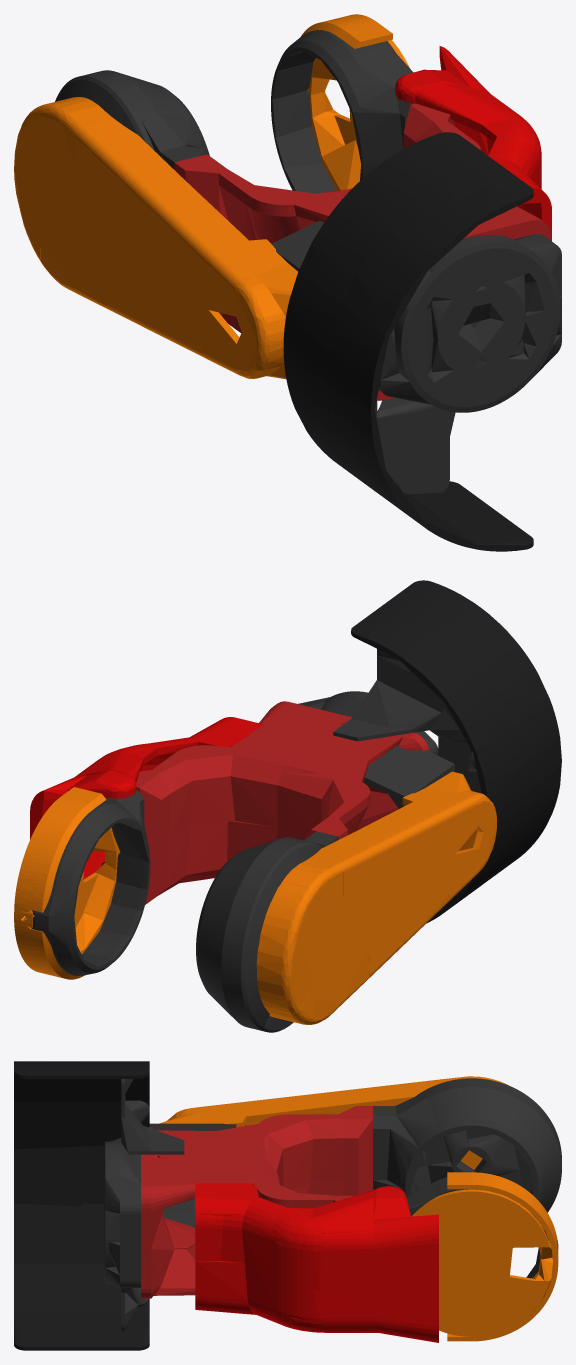
Rendered from RARM_LINK5_mesh.dae.
3 renders of one model, top to bottom at view 1: azimuth 30°, elevation 25°; view 2: azimuth 150°, elevation 25°; view 3: azimuth 270°, elevation 25°, orthographic. The views are drawn at different scales.
Parts seen in each view (by area): view 1: RARM_LINK5 (×12); view 2: RARM_LINK5 (×12); view 3: RARM_LINK5 (×12).
Boxes of the visible parts, x1=… form: RARM_LINK5 (×12): x1=14, y1=14, x2=561, y2=551; RARM_LINK5 (×12): x1=14, y1=580, x2=561, y2=1032; RARM_LINK5 (×12): x1=14, y1=1061, x2=561, y2=1350.
Size of the model in its own units: 0.137 by 0.123 by 0.222.
